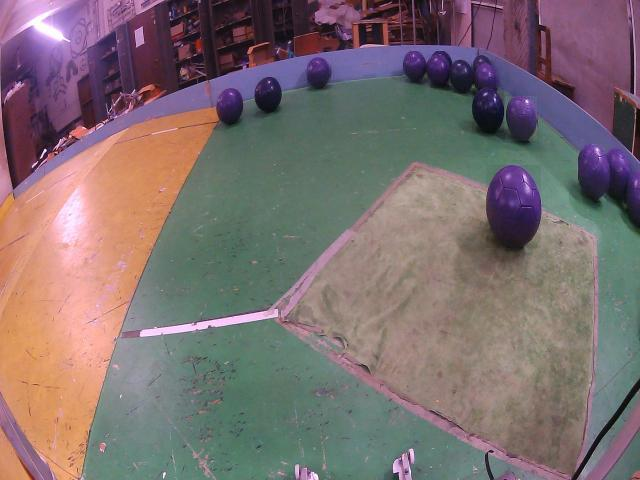jambhalya: (486, 165, 541, 248), (579, 145, 609, 201), (506, 96, 537, 141), (606, 148, 630, 200), (216, 88, 244, 125), (626, 171, 640, 226), (426, 55, 450, 86), (403, 51, 426, 81), (475, 64, 498, 90)
kaalyya: (473, 89, 504, 133), (255, 77, 281, 113), (450, 60, 473, 93), (307, 57, 330, 88), (473, 55, 491, 72), (434, 51, 452, 66)
